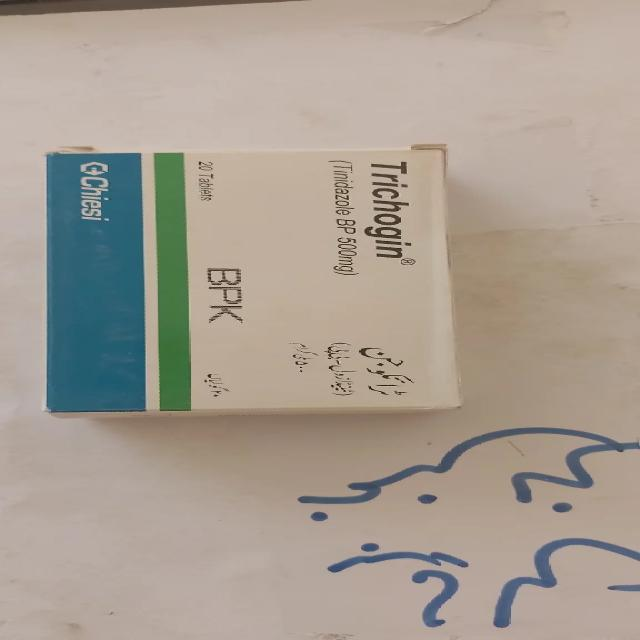drug-name: (363, 157, 421, 269)
